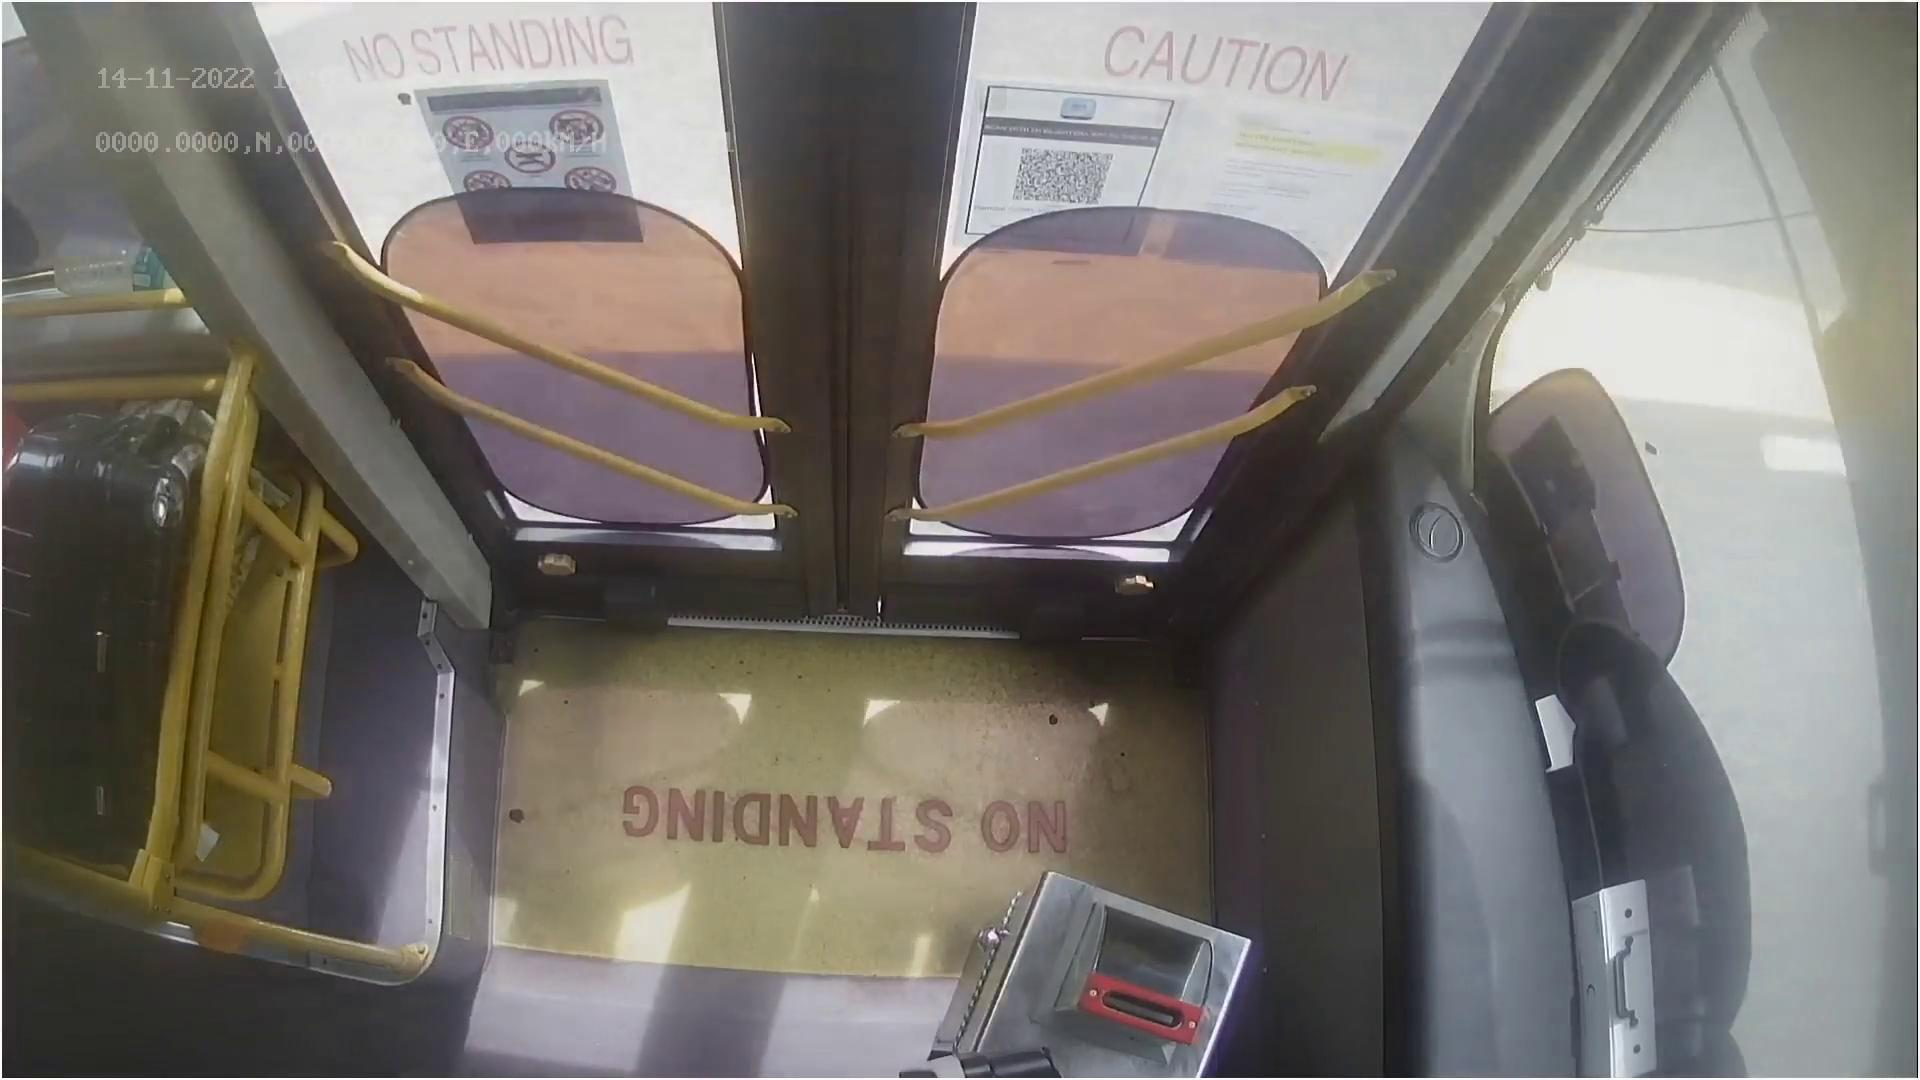close: (290, 0, 1444, 158)
